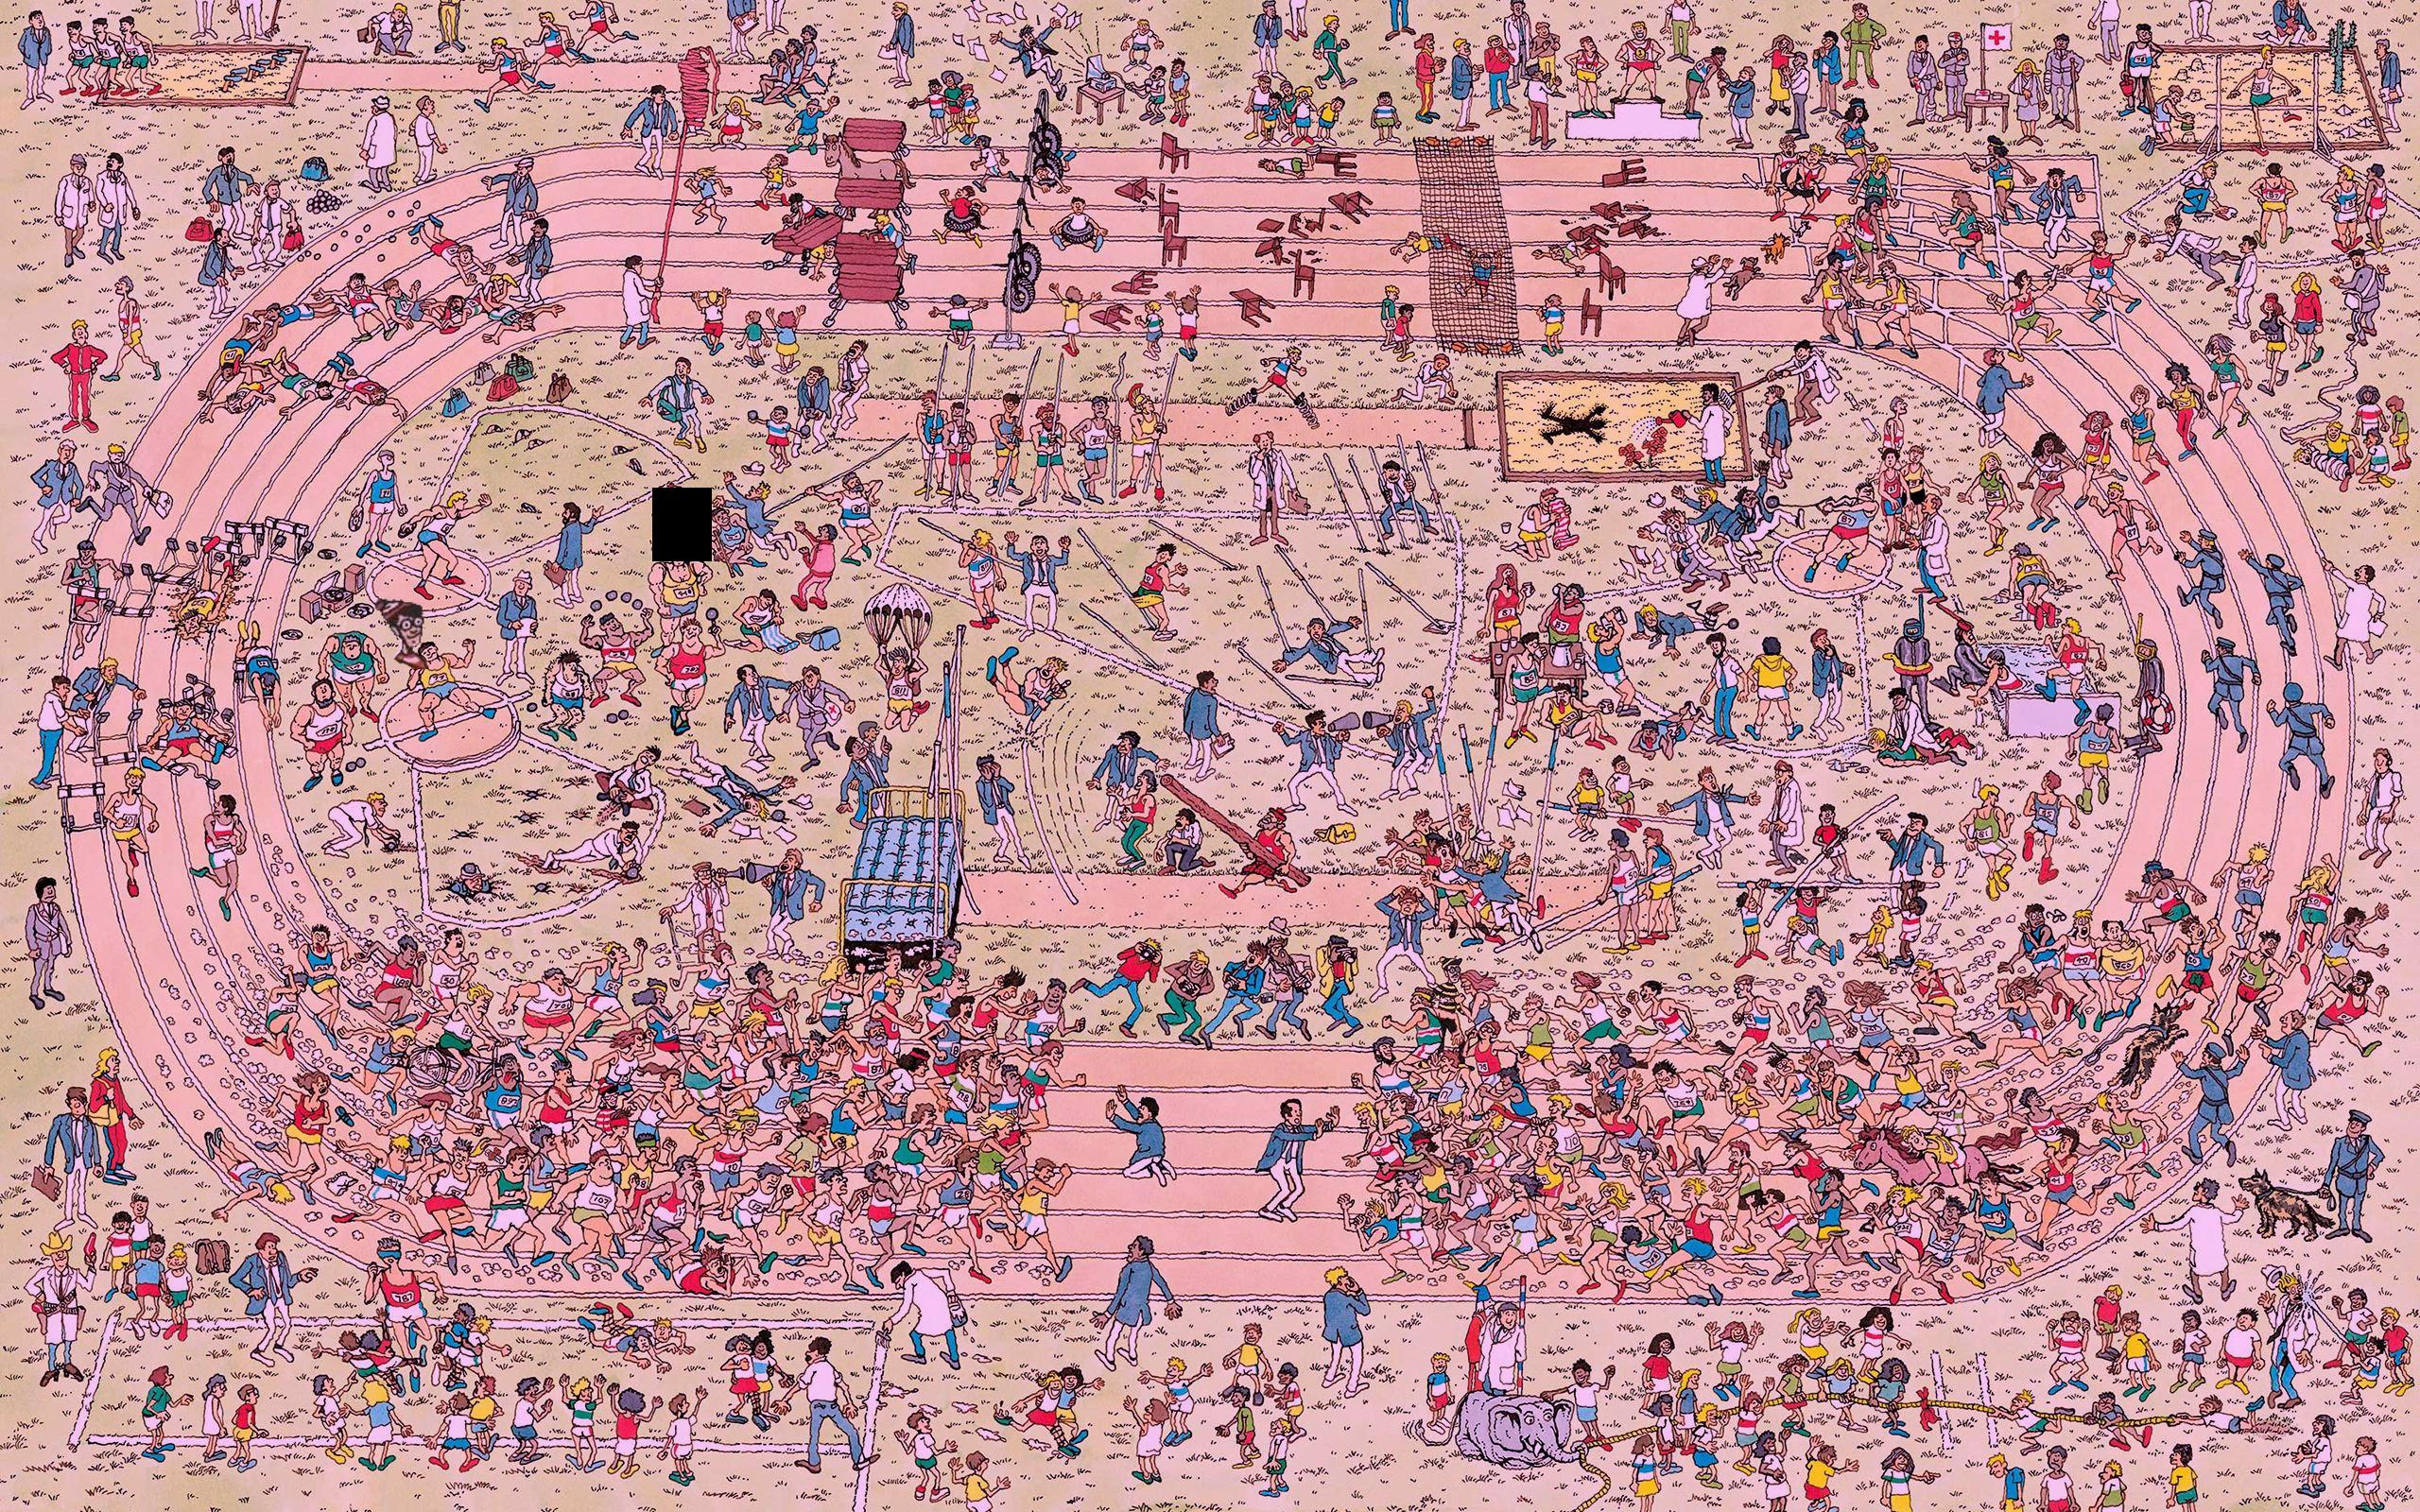waldos: (371, 596, 430, 669)
